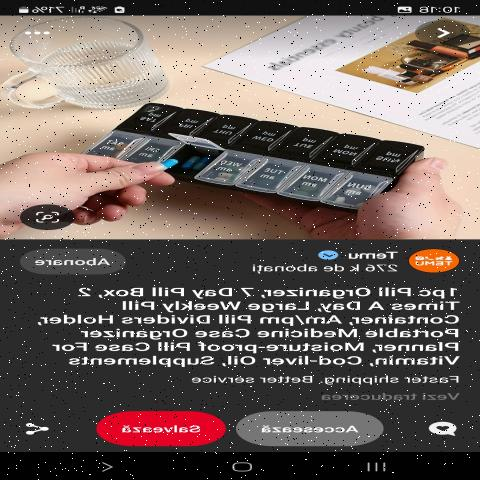Pill-box: (64, 89, 451, 216)
